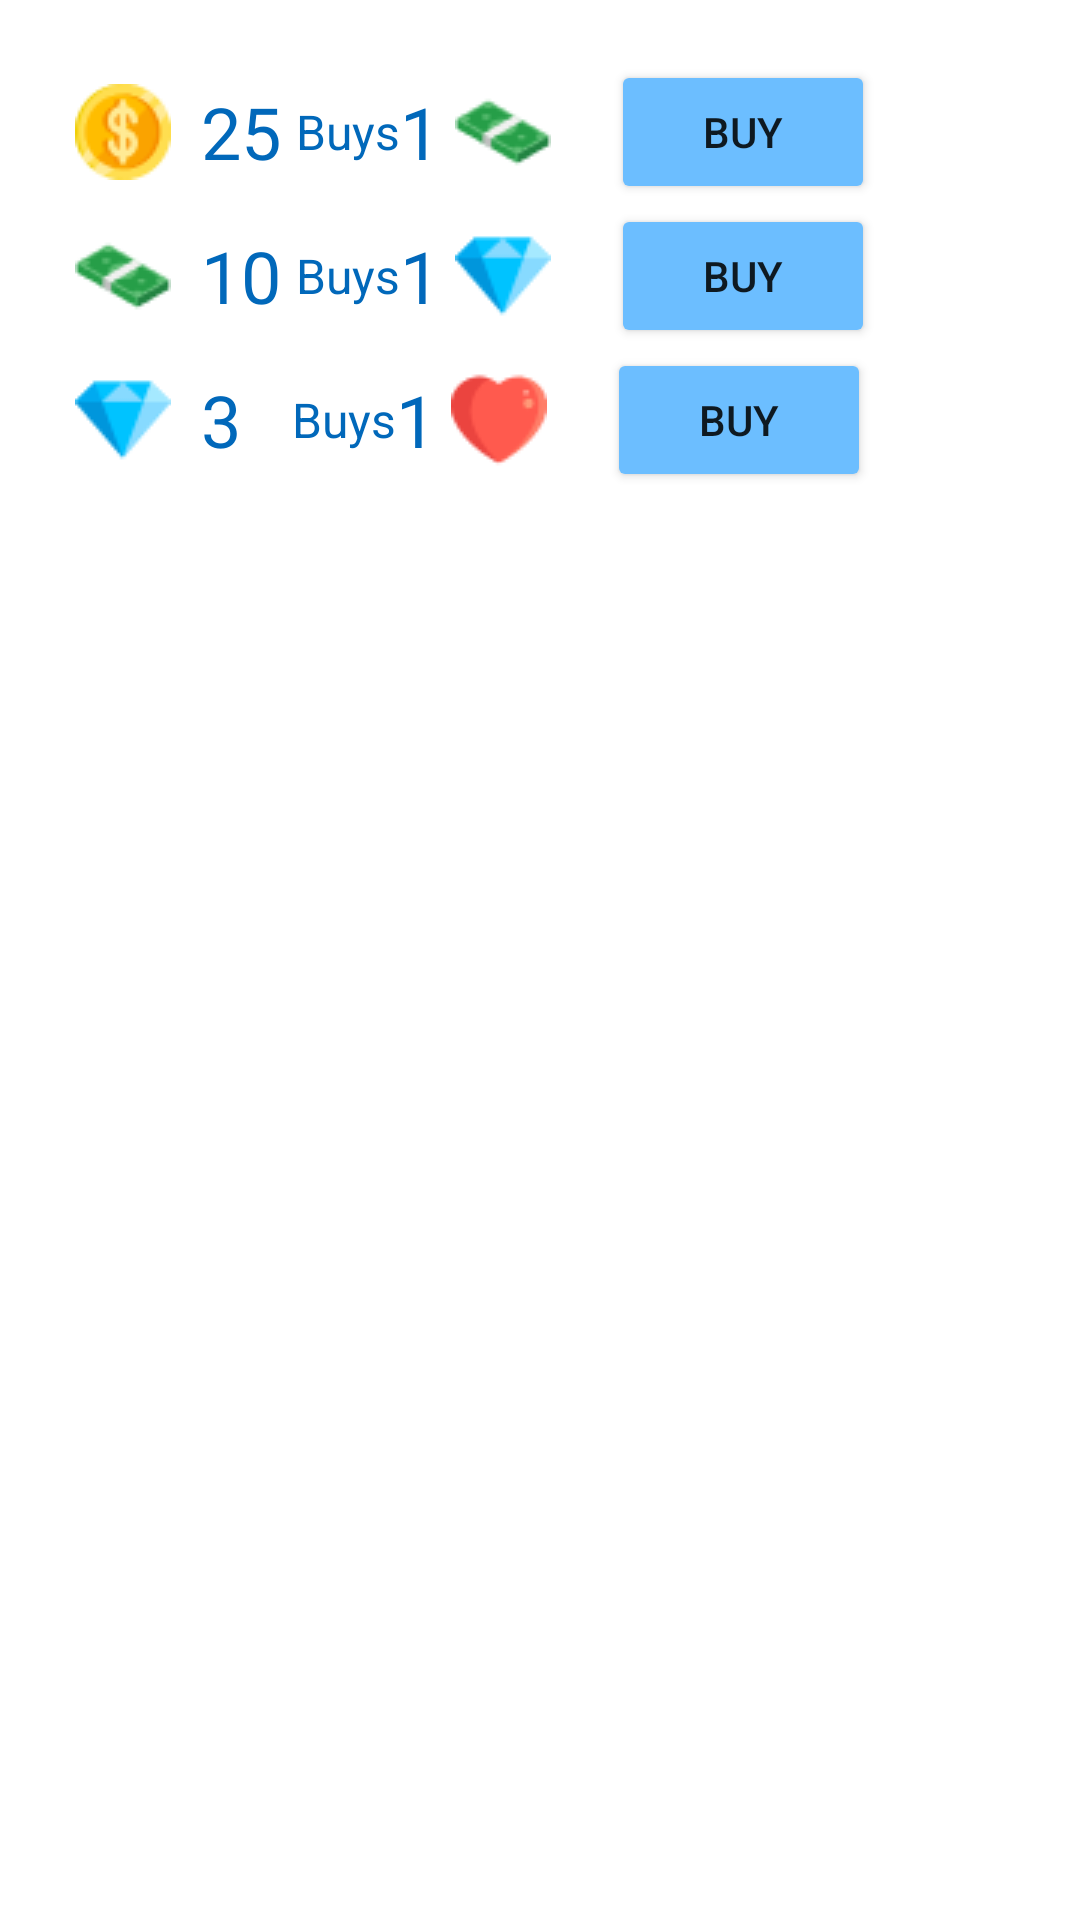

Screen size 1080 × 1920. Icon name, then its box in pixels as (x1, y1, x2, y2):
banknote: (455, 100, 551, 165), (75, 244, 171, 309)
coin: (75, 84, 171, 180)
diamond: (455, 236, 551, 315), (75, 380, 171, 459)
heart: (451, 374, 547, 463)
